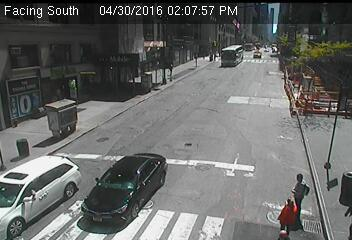neg: (301, 114, 342, 168), (291, 41, 326, 88), (134, 149, 169, 195), (269, 73, 300, 114)
pos: (282, 172, 319, 222), (278, 197, 303, 231)
